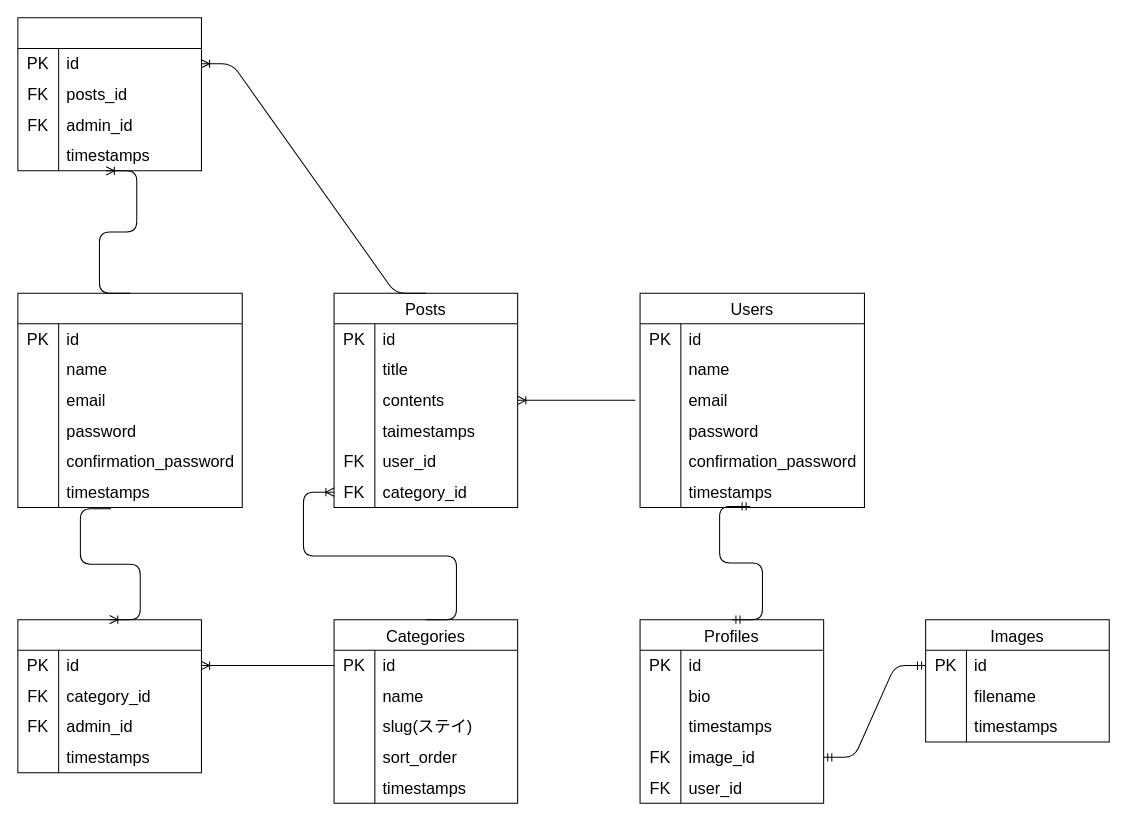
Image size: 1127x821. Some labels were removed from this diagram. The shapes that lost their labels are listed below. From the top down, each one's box as (x1, y1, x2, y2) in pixels, then its label:
(17, 17, 201, 171): AdminDeletedPosts
(17, 292, 242, 507): Admin
(17, 619, 201, 773): AdminCategory
